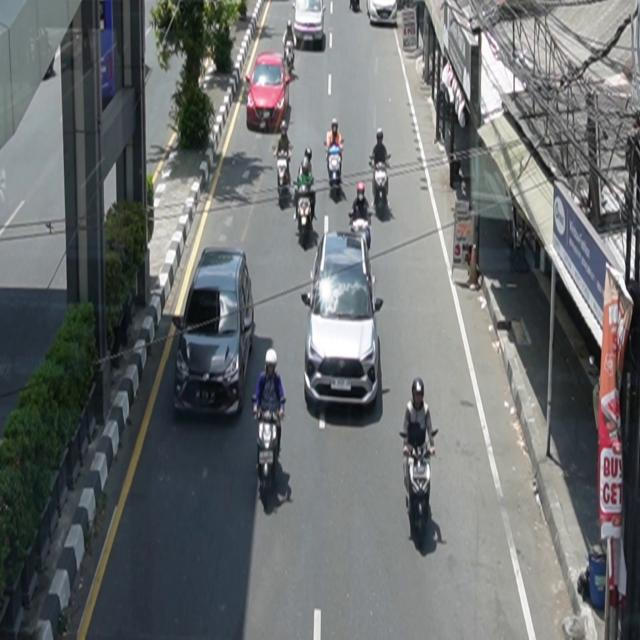car: (302, 230, 384, 414), (173, 247, 255, 420), (246, 52, 291, 134), (292, 1, 327, 46), (366, 1, 398, 26)
